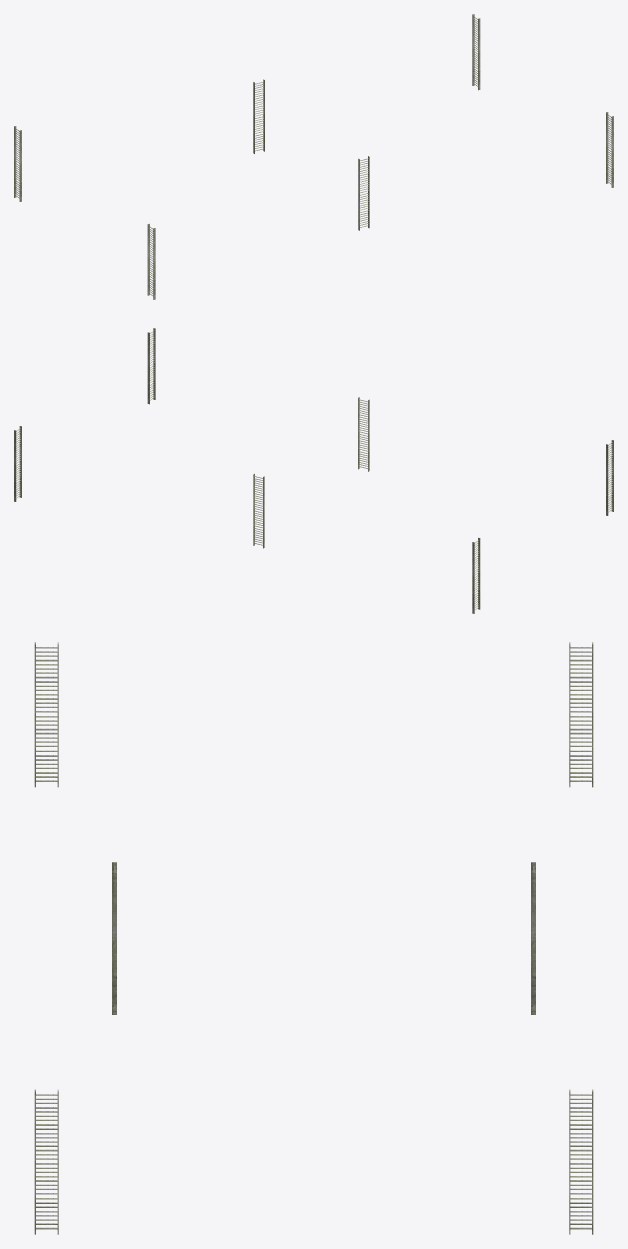
Rendered from SM_Stroke_02_ladders.fbx.
3 views of the same model, one above another, from view 1: azimuth 30°, elevation 25°; view 2: azimuth 150°, elevation 25°; view 3: azimuth 270°, elevation 25° (orthographic). The views are drawn at different scales.
Parts seen in each view (by area): view 1: SM_Stroke_02_ladders; view 2: SM_Stroke_02_ladders; view 3: SM_Stroke_02_ladders.
Boxes of the visible parts, <box> form: SM_Stroke_02_ladders: <box>14,14,613,299</box>; SM_Stroke_02_ladders: <box>14,328,613,613</box>; SM_Stroke_02_ladders: <box>34,642,593,1234</box>.
Bounding box in the file's own units: 7914 × 1174 × 4156.
